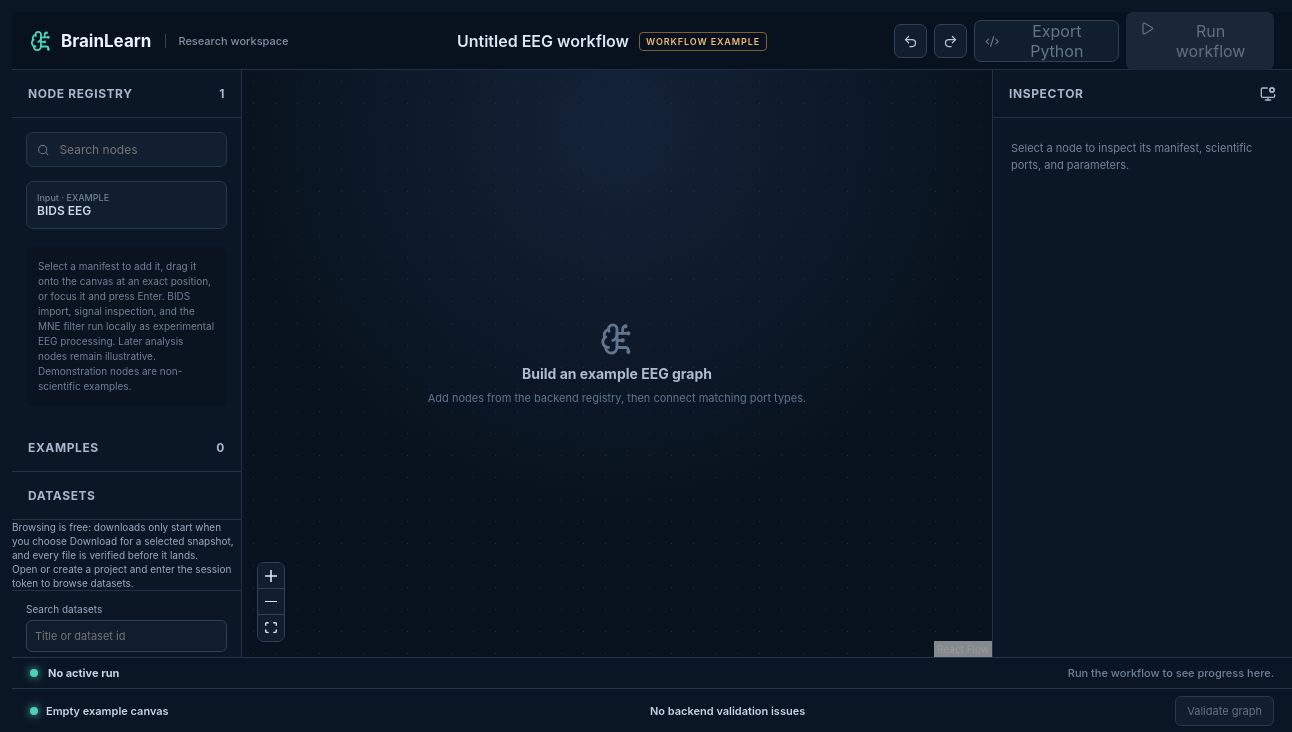
shows backend validation issues on the selected node
The image size is (1292, 732).
Click the button "Input · EXAMPLE BIDS EEG" at (126, 205), box left=26, top=181, right=227, bottom=229
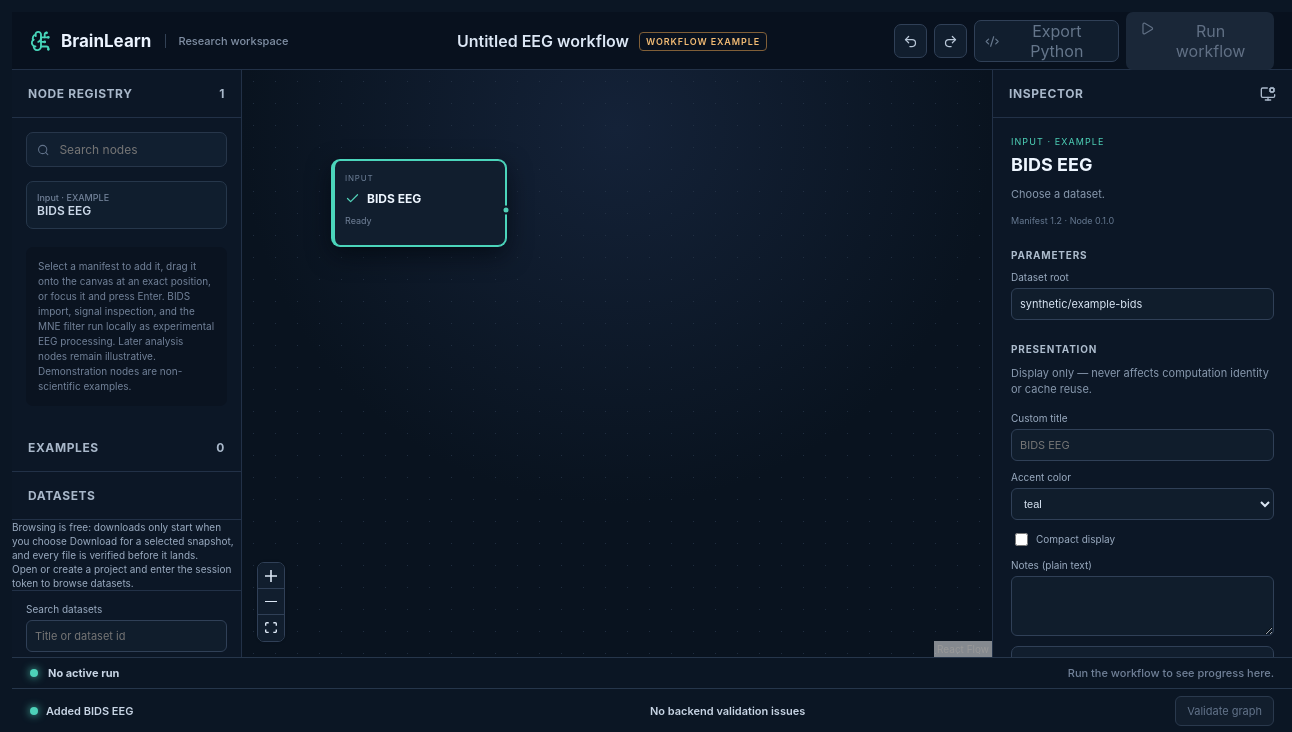
Clear the field labelled "Dataset root" at (1142, 304), box left=1011, top=288, right=1274, bottom=320
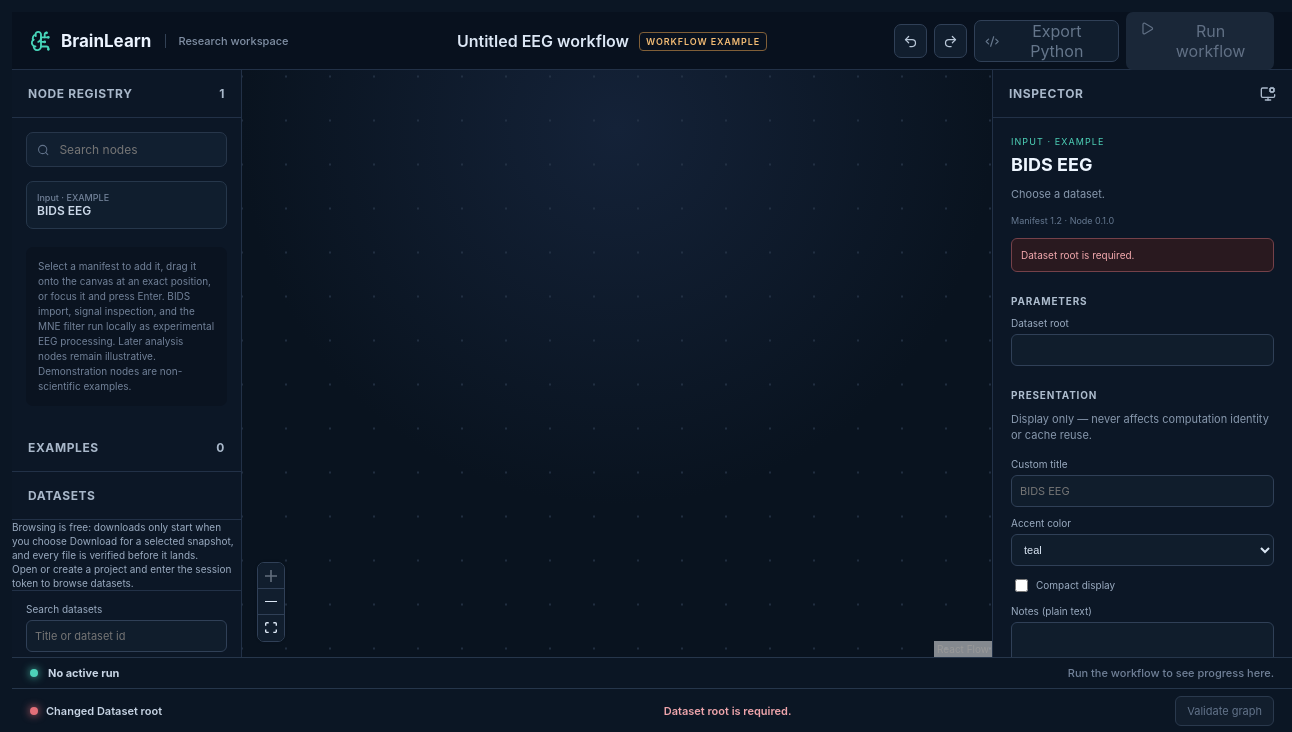
Expected: the text "Dataset root is required." is shown 2 times, left=1011, top=238, right=1274, bottom=272; left=664, top=704, right=792, bottom=718
